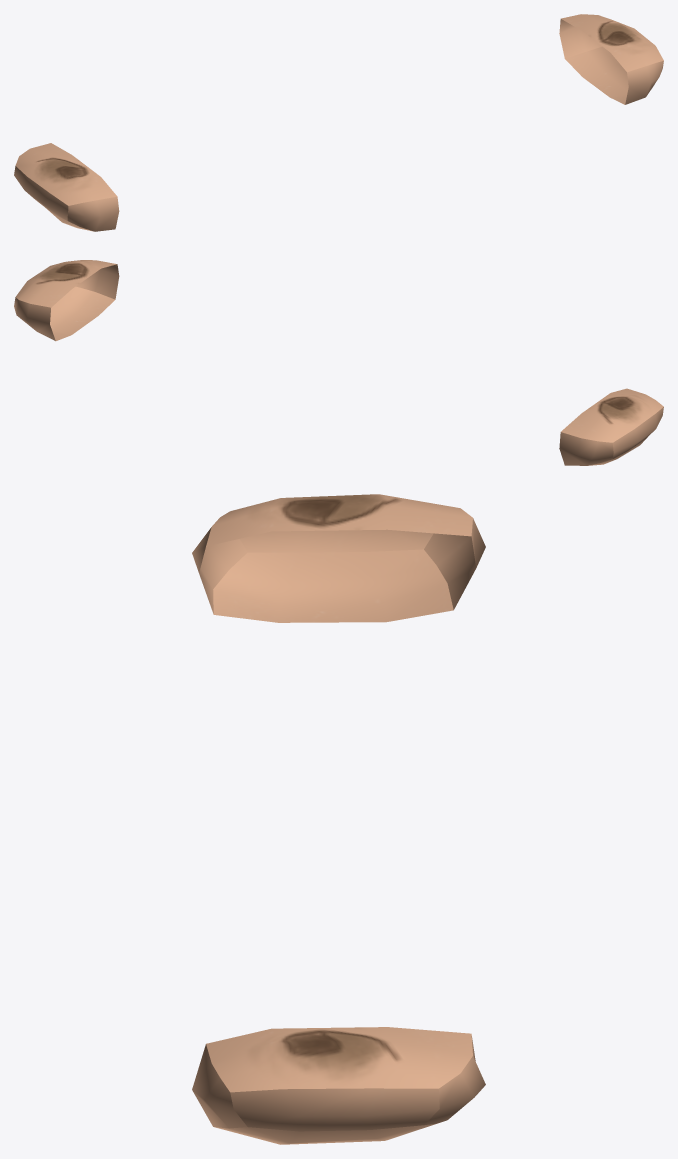
Rendered from ear.dae.
3 views of the same model, one above another, from view 1: azimuth 30°, elevation 25°; view 2: azimuth 150°, elevation 25°; view 3: azimuth 270°, elevation 25° (orthographic). The views are drawn at different scales.
Visible parts, largest first — view 1: ear (×2); view 2: ear (×2); view 3: ear (×2).
Part boxes in pixels (box(x1,y1,x2,y2)): ear (×2): box(14, 14, 663, 231); ear (×2): box(14, 260, 663, 465); ear (×2): box(192, 494, 485, 1144).
Bounding box in the file's own units: 94.51 × 7.49 × 19.56.
Materials: 1 (1 with a texture image).
